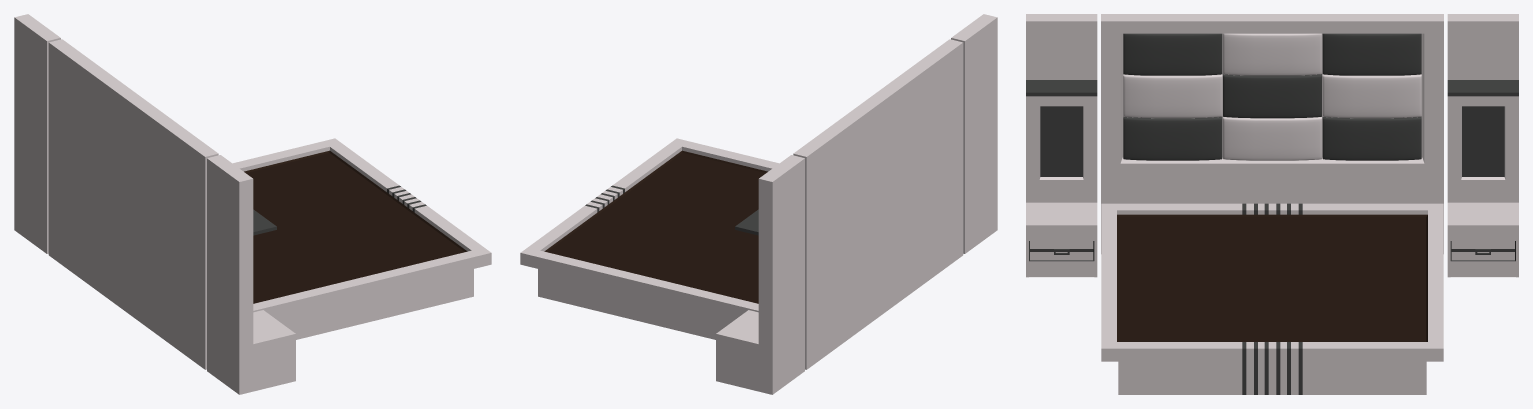
Rendered from bed.glb.
3 renders of one model, left to right at view 1: azimuth 30°, elevation 25°; view 2: azimuth 150°, elevation 25°; view 3: azimuth 270°, elevation 25°, orthographic. The views are drawn at different scales.
Visible parts, largest first — view 1: double bed, double bed.001, double bed.005, double bed.006; view 2: double bed, double bed.001, double bed.006, double bed.005; view 3: double bed, double bed.001, double bed.005, double bed.006, double bed.003, double bed.002, double bed.004.
Boxes of the visible parts, bbox=[...] form: double bed: bbox=[48, 39, 491, 369]; double bed.001: bbox=[14, 14, 295, 394]; double bed.005: bbox=[253, 204, 464, 303]; double bed.006: bbox=[246, 153, 399, 239]; double bed: bbox=[520, 39, 963, 369]; double bed.001: bbox=[716, 14, 997, 394]; double bed.006: bbox=[547, 204, 758, 303]; double bed.005: bbox=[612, 153, 765, 239]; double bed: bbox=[1101, 14, 1443, 394]; double bed.001: bbox=[1026, 14, 1518, 277]; double bed.005: bbox=[1118, 217, 1272, 341]; double bed.006: bbox=[1272, 217, 1426, 341]; double bed.003: bbox=[1123, 33, 1421, 160]; double bed.002: bbox=[1123, 33, 1421, 160]; double bed.004: bbox=[1223, 74, 1321, 118].
Bounding box in the file's own units: 1.93 × 1.37 × 2.63.
